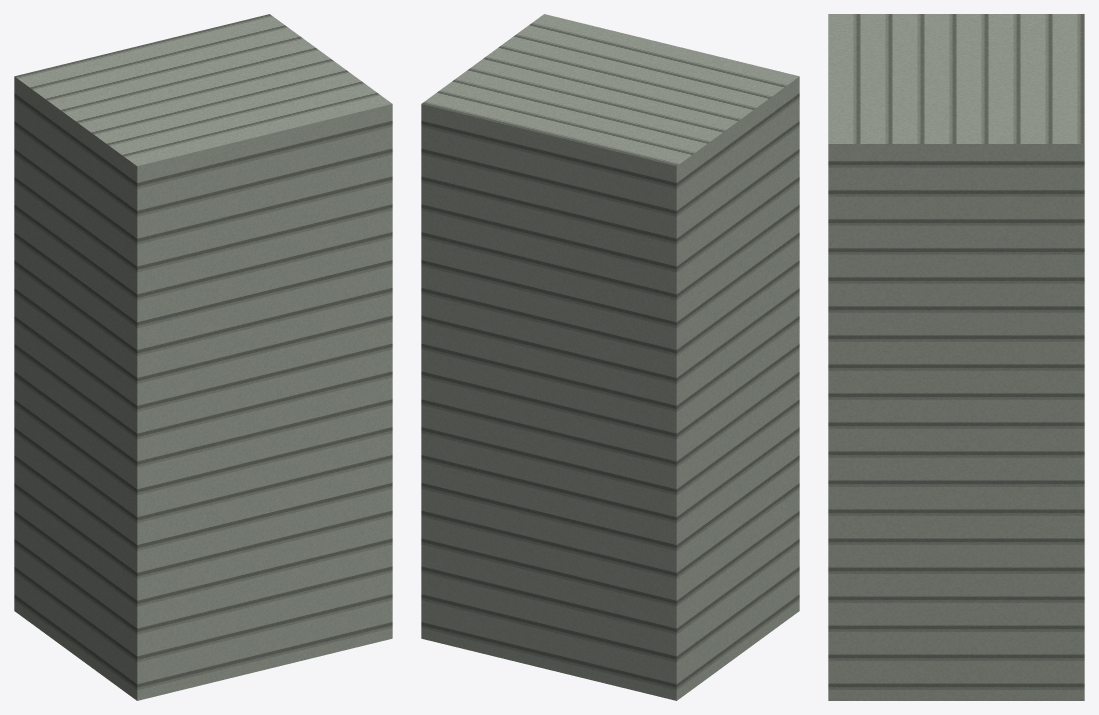
Rendered from box_office_kiosk.glb.
3 renders of one model, left to right at view 1: azimuth 30°, elevation 25°; view 2: azimuth 150°, elevation 25°; view 3: azimuth 270°, elevation 25°, orthographic. The views are drawn at different scales.
Parts seen in each view (by area): view 1: box_office_kiosk-col; view 2: box_office_kiosk-col; view 3: box_office_kiosk-col.
Boxes of the visible parts, left/top/right/bottom form: box_office_kiosk-col: left=14, top=14, right=392, bottom=700; box_office_kiosk-col: left=421, top=14, right=799, bottom=700; box_office_kiosk-col: left=828, top=14, right=1084, bottom=700.
Bounding box in the file's own units: 1.2 × 2.4 × 1.
1 material, 1 textured.
